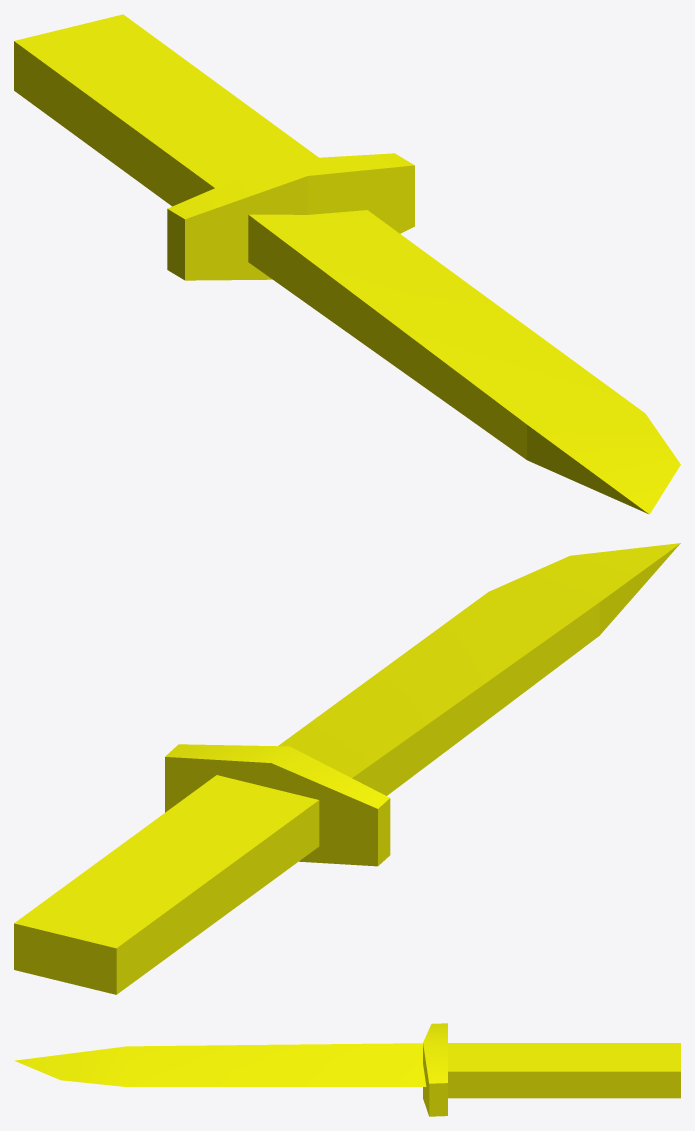
The model's file is weapon_knife_soviet.glb.
3 renders of one model, top to bottom at view 1: azimuth 30°, elevation 25°; view 2: azimuth 150°, elevation 25°; view 3: azimuth 270°, elevation 25°, orthographic. The views are drawn at different scales.
Parts seen in each view (by area): view 1: weapon_knife_soviet; view 2: weapon_knife_soviet; view 3: weapon_knife_soviet.
Boxes of the visible parts, box(x1,y1,x2,y2) form: weapon_knife_soviet: box(14, 14, 680, 514); weapon_knife_soviet: box(14, 543, 680, 994); weapon_knife_soviet: box(14, 1023, 680, 1116).
Bounding box in the file's own units: 0.1904 × 0.0818 × 0.8871.
Materials: 1 (1 with a texture image).
